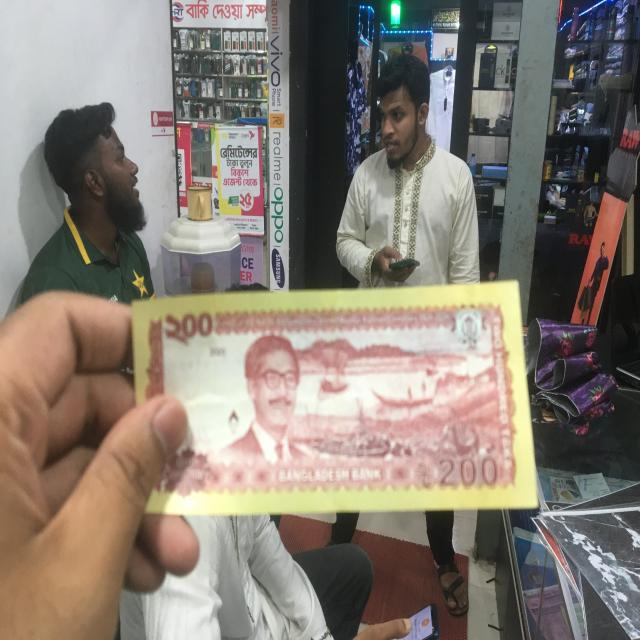Taka: (135, 294, 538, 516)
